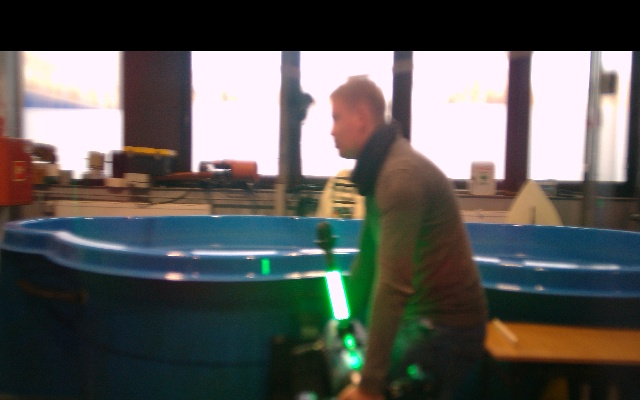green: (323, 270, 351, 326)
